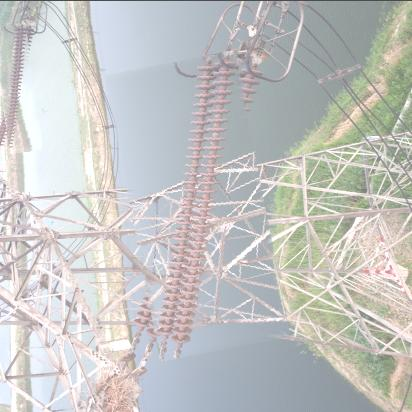insulator: (119, 55, 278, 357), (1, 24, 39, 153)
